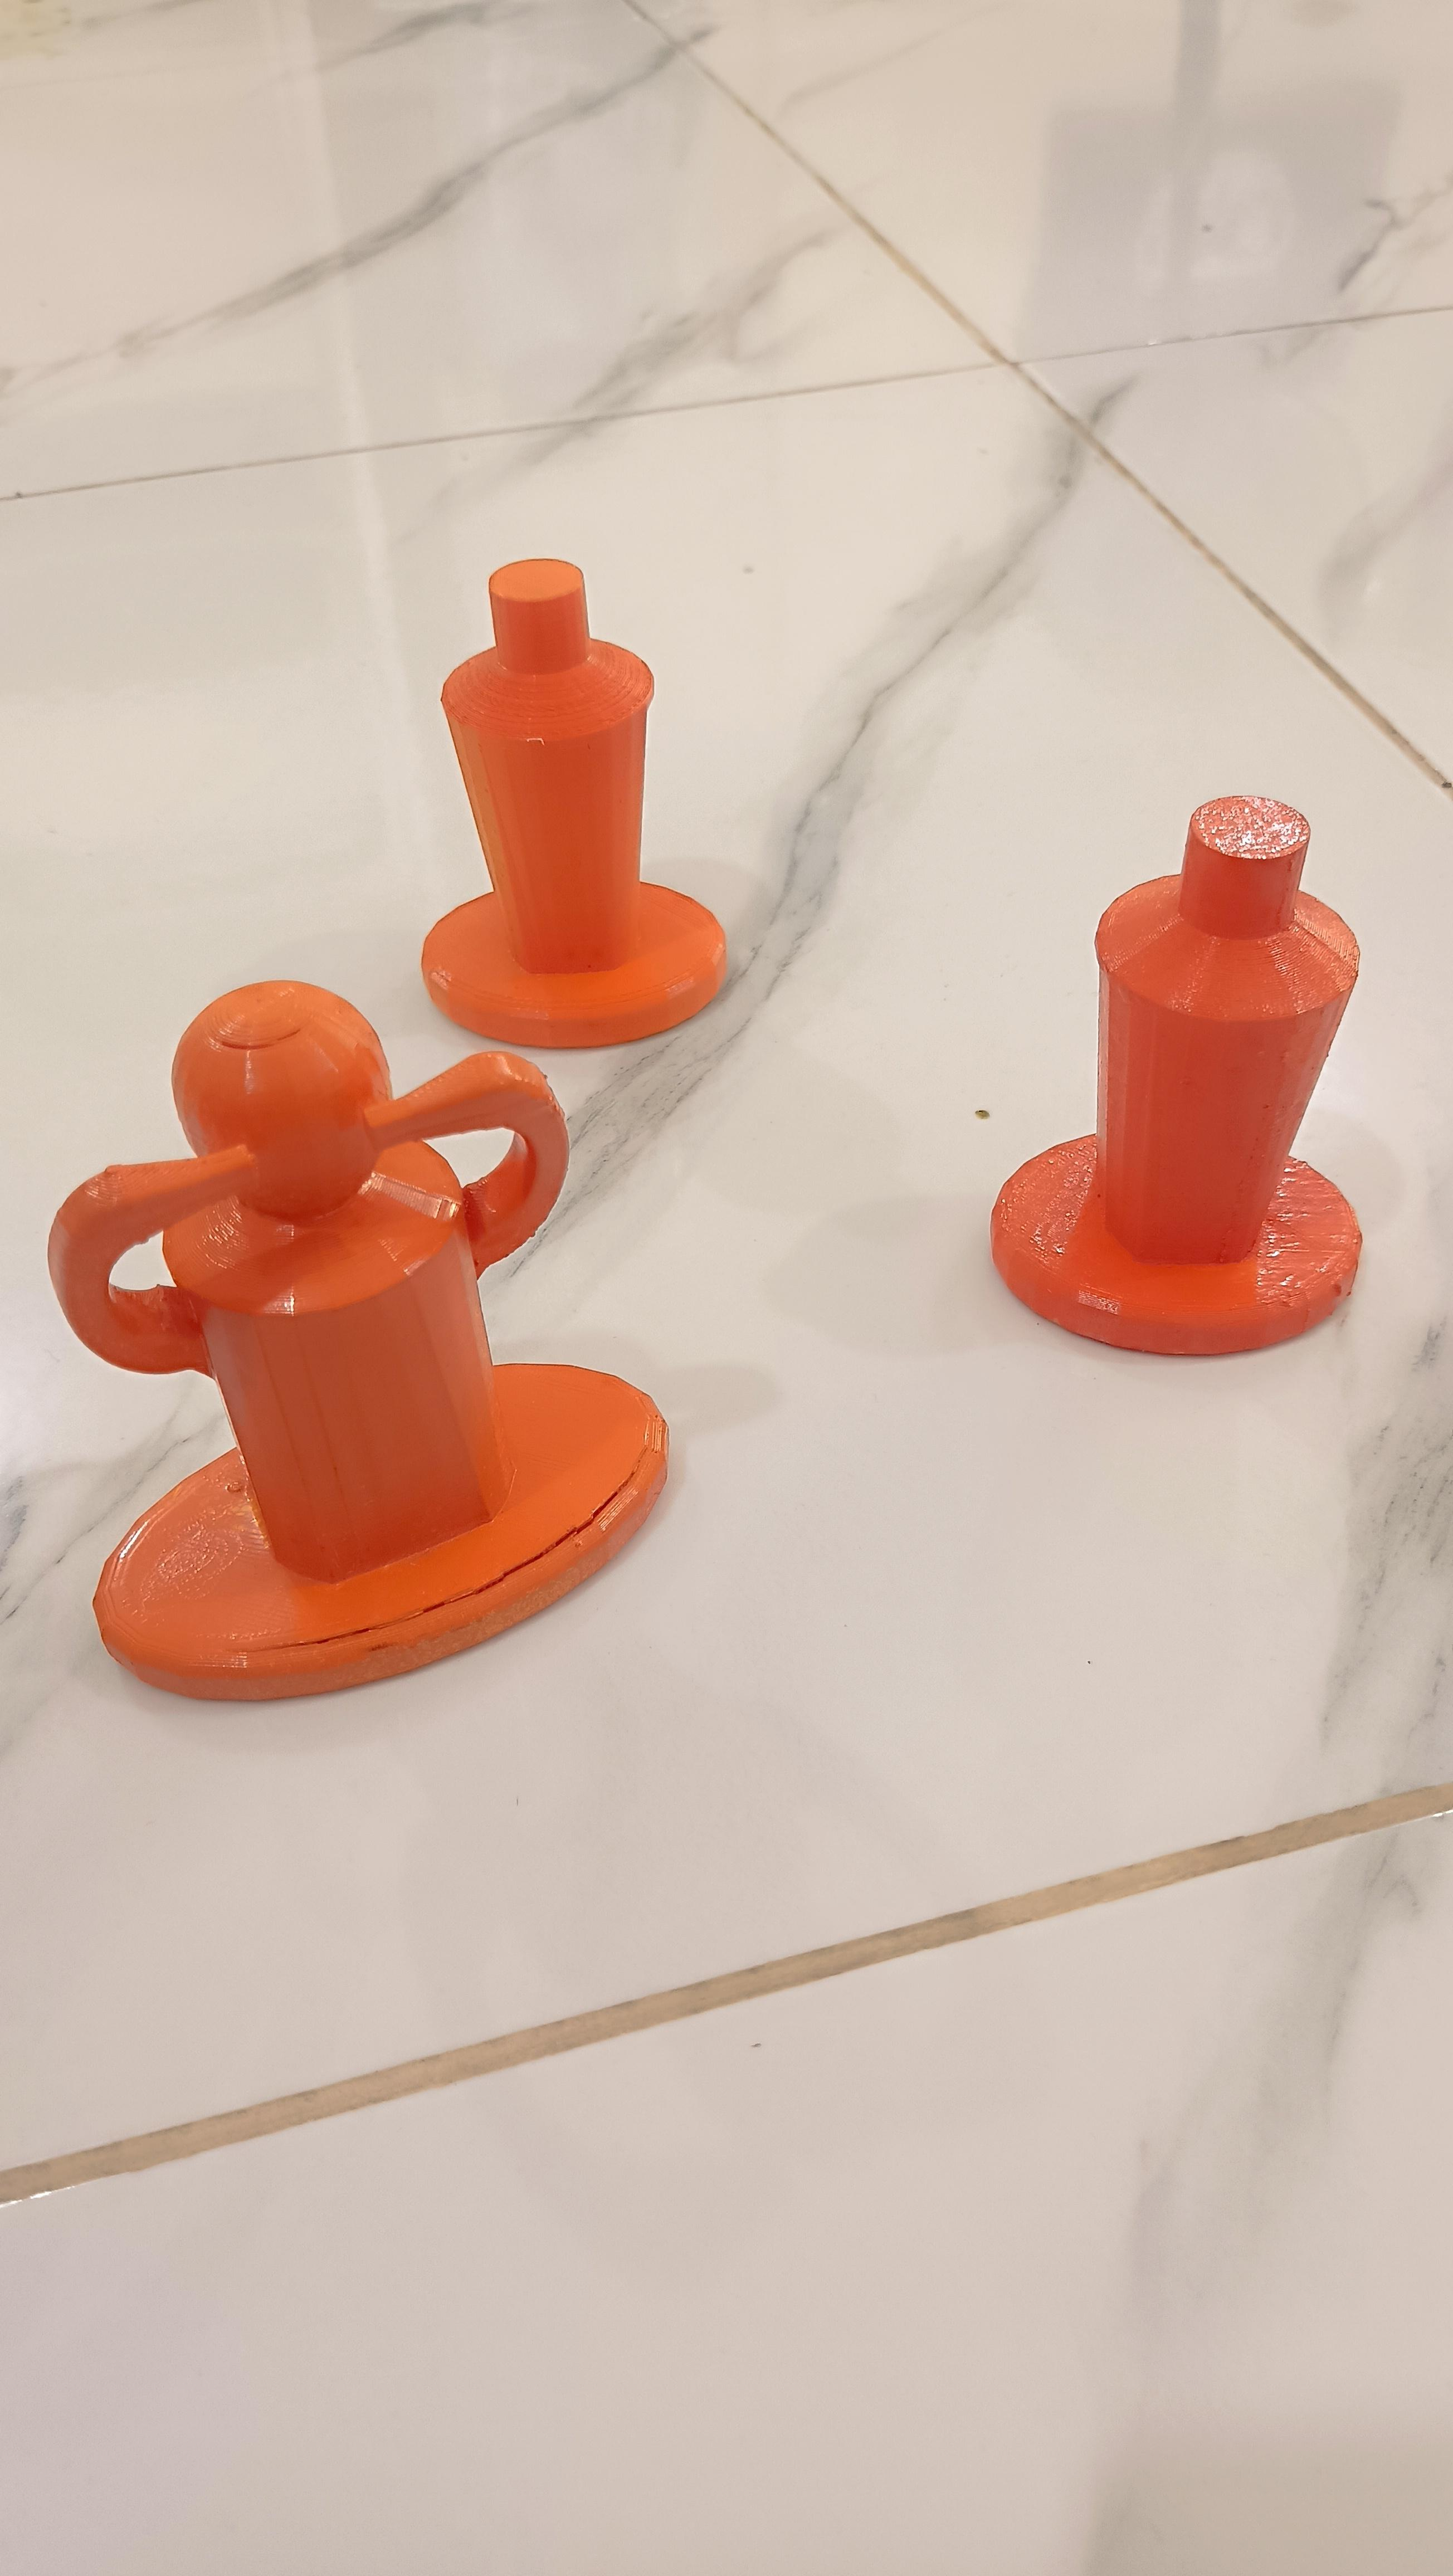dummy: (986, 772, 1388, 1390), (373, 532, 763, 1054)
real_person: (25, 985, 674, 1758)
